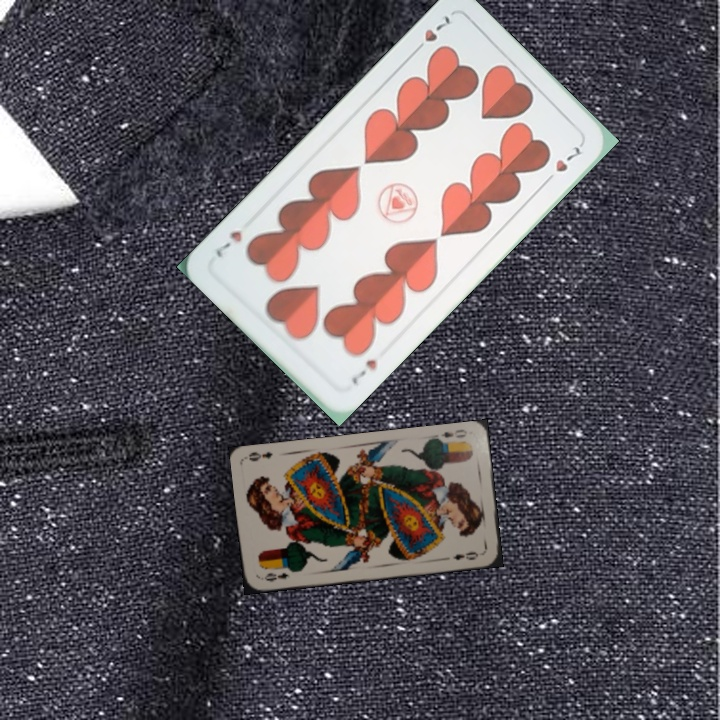EO: (258, 565, 298, 584), (437, 425, 470, 440)
H7: (408, 11, 453, 57), (347, 355, 380, 387)
